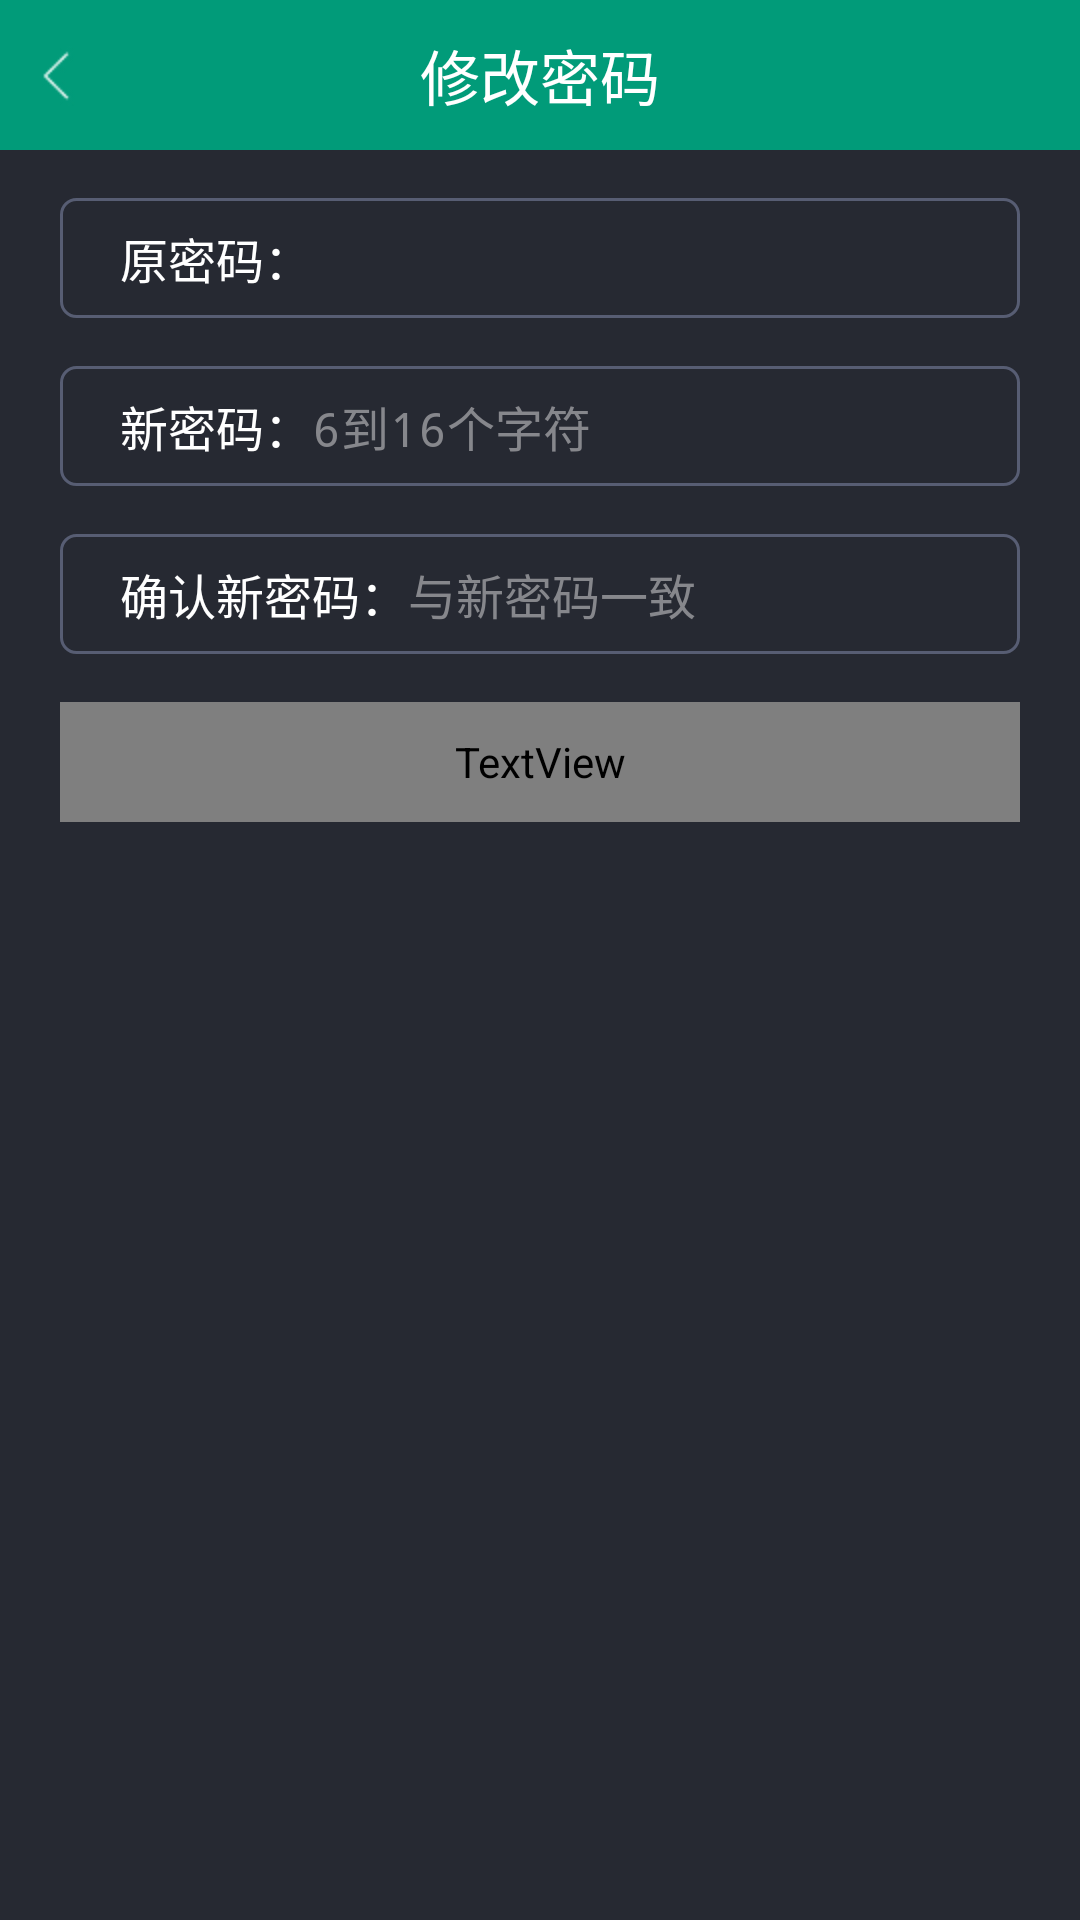

Where icons sit on this 1080w x 1920h app screen, as box=[x1, y1, x2, y2]:
back: box=[43, 52, 69, 100]
